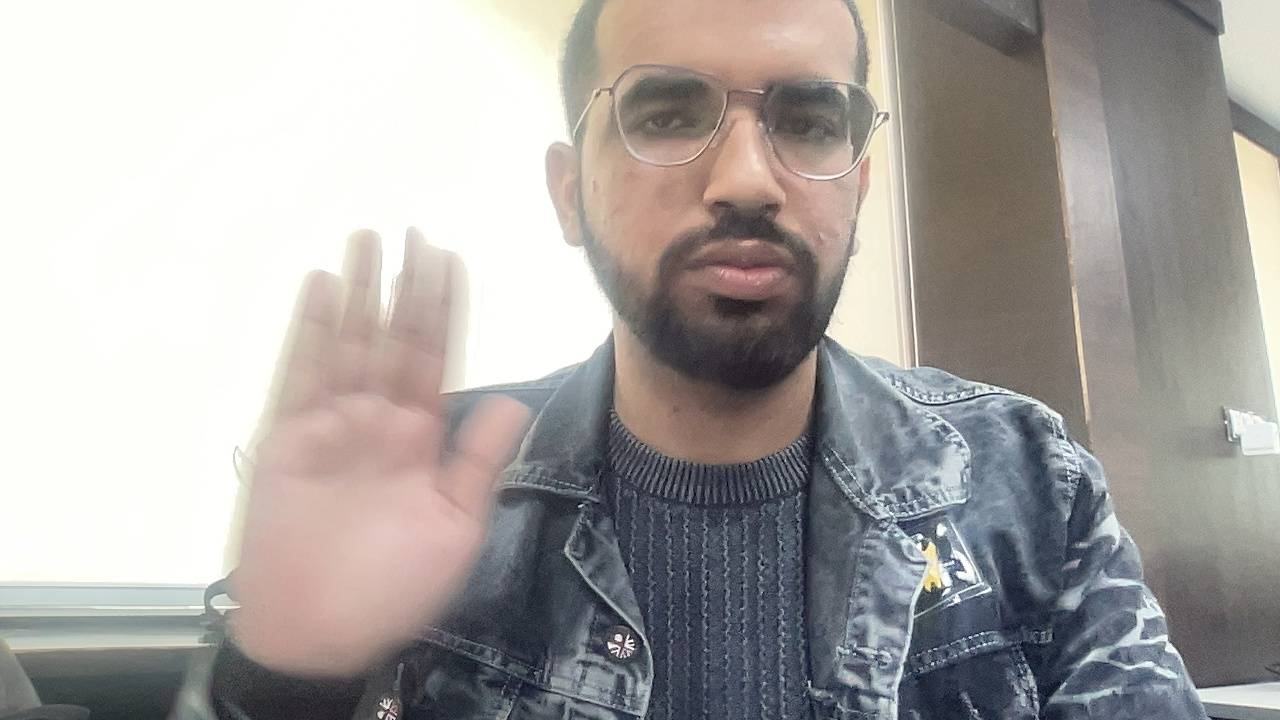Hello: (176, 200, 551, 691)
